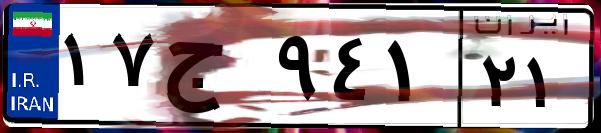1: (385, 28, 445, 110), (57, 26, 110, 100), (525, 38, 570, 115)
2: (475, 38, 525, 113)
4: (330, 28, 385, 110)
7: (110, 28, 158, 98)
9: (270, 28, 330, 110)
ج: (158, 20, 270, 120)
